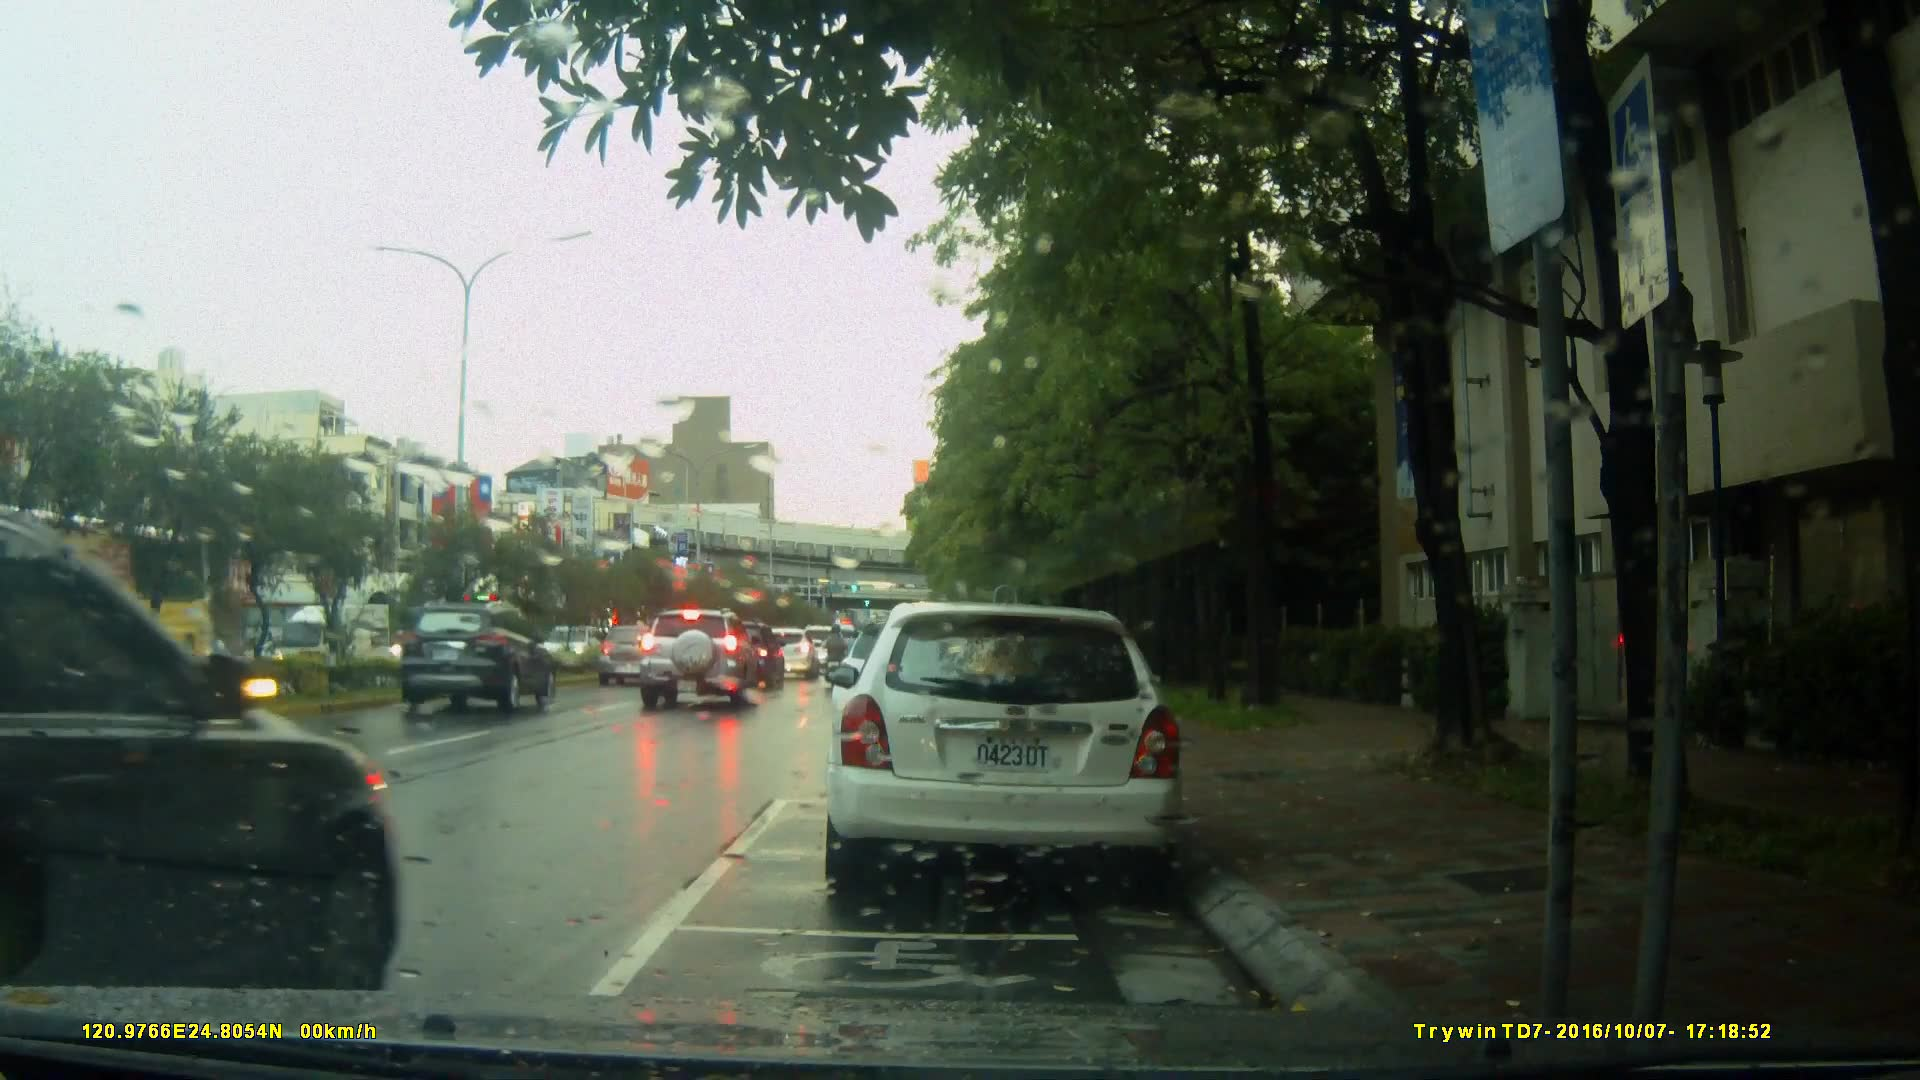rider: (819, 624, 854, 698)
vehicle: (1, 500, 401, 988), (820, 602, 1188, 898), (397, 599, 560, 714), (635, 607, 758, 714)
